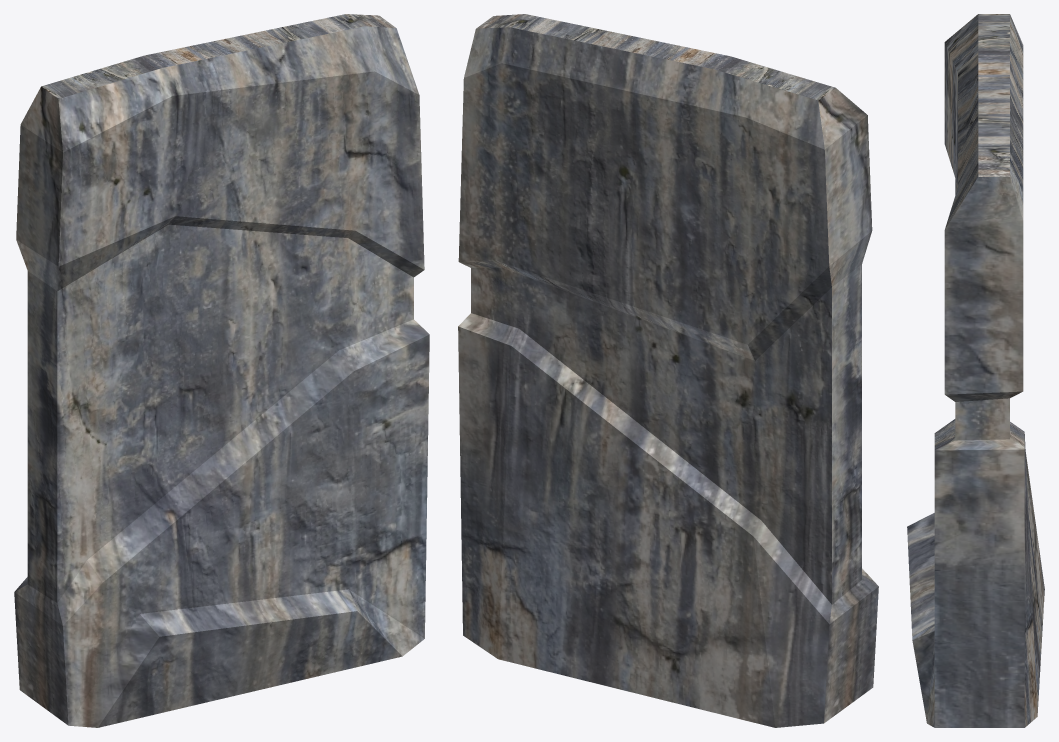
File: RockWall_4.fbx
The picture shows the model from 3 angles, left to right: view 1: azimuth 30°, elevation 25°; view 2: azimuth 150°, elevation 25°; view 3: azimuth 270°, elevation 25°; orthographic projection. The views are drawn at different scales.
Parts seen in each view (by area): view 1: pCube5; view 2: pCube5; view 3: pCube5.
Boxes of the visible parts, <box> form: pCube5: <box>14,14,429,727</box>; pCube5: <box>458,14,878,727</box>; pCube5: <box>907,14,1044,727</box>.
Size of the model in its own units: 8.53 by 13.78 by 3.01.
